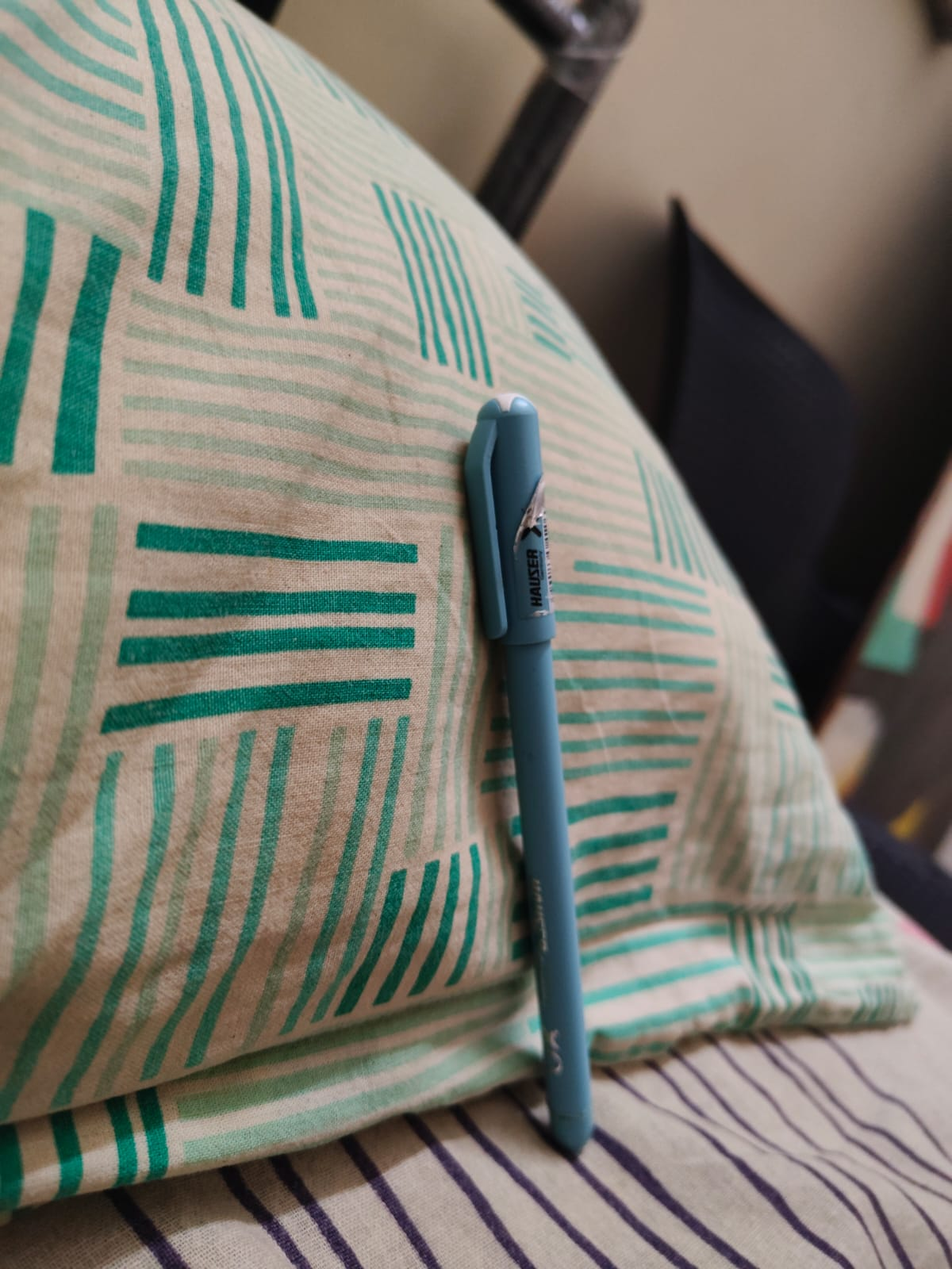pen: (451, 370, 625, 1159)
